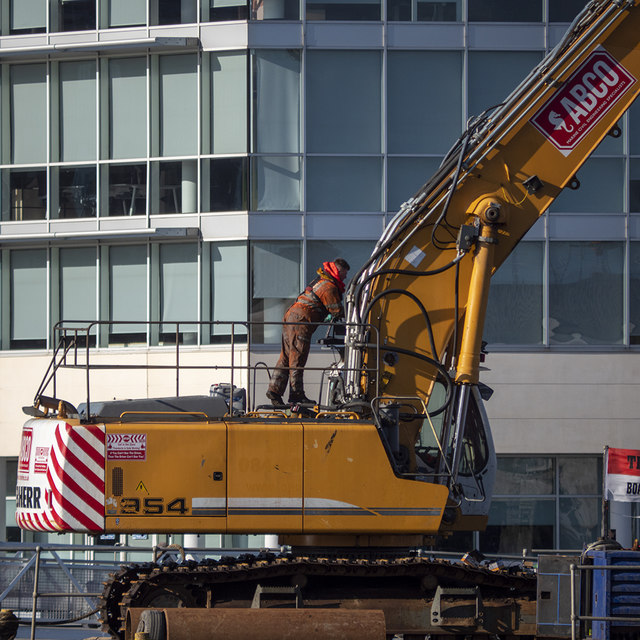excavator: (20, 6, 635, 640)
